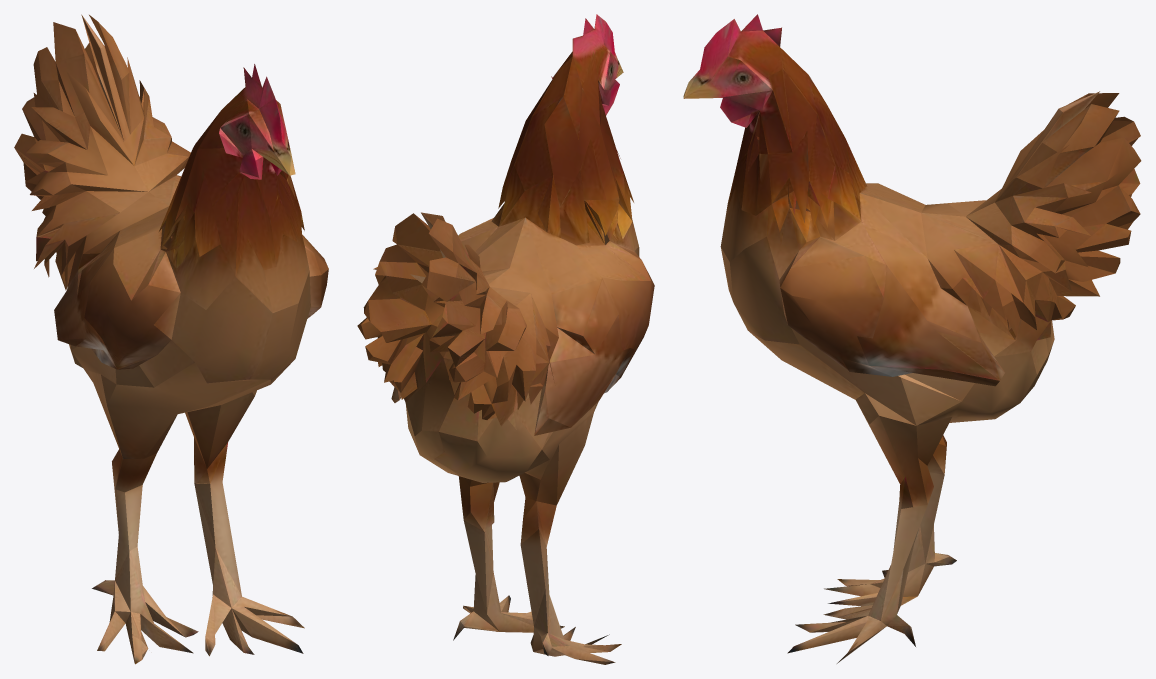
File: world-hen.glb
3 renders of one model, left to right at view 1: azimuth 30°, elevation 25°; view 2: azimuth 150°, elevation 25°; view 3: azimuth 270°, elevation 25°, orthographic. The views are drawn at different scales.
Size of the model in its own units: 0.6761 by 1.9 by 1.3.
Materials: 1 (1 with a texture image).
